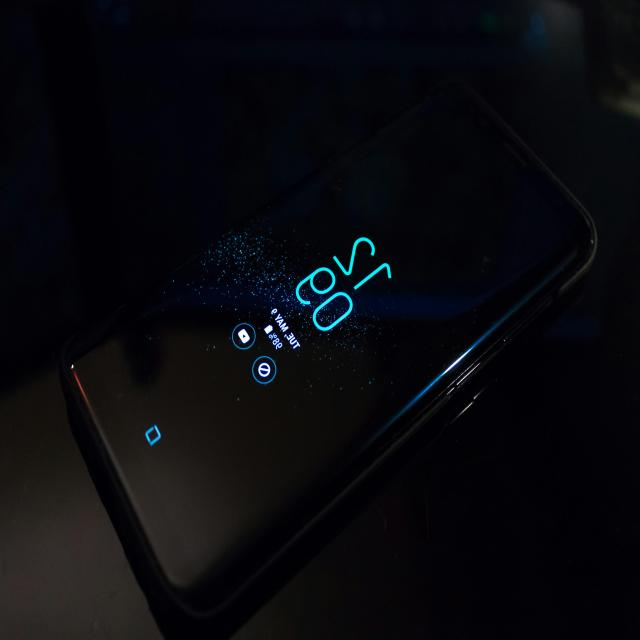Mobile: (36, 42, 612, 614)
